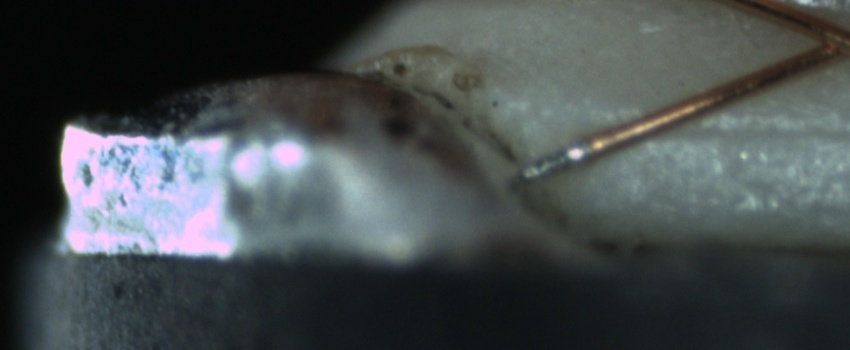CL: (793, 9, 850, 66)
DL: (639, 98, 850, 162)
TS: (515, 139, 587, 185)
